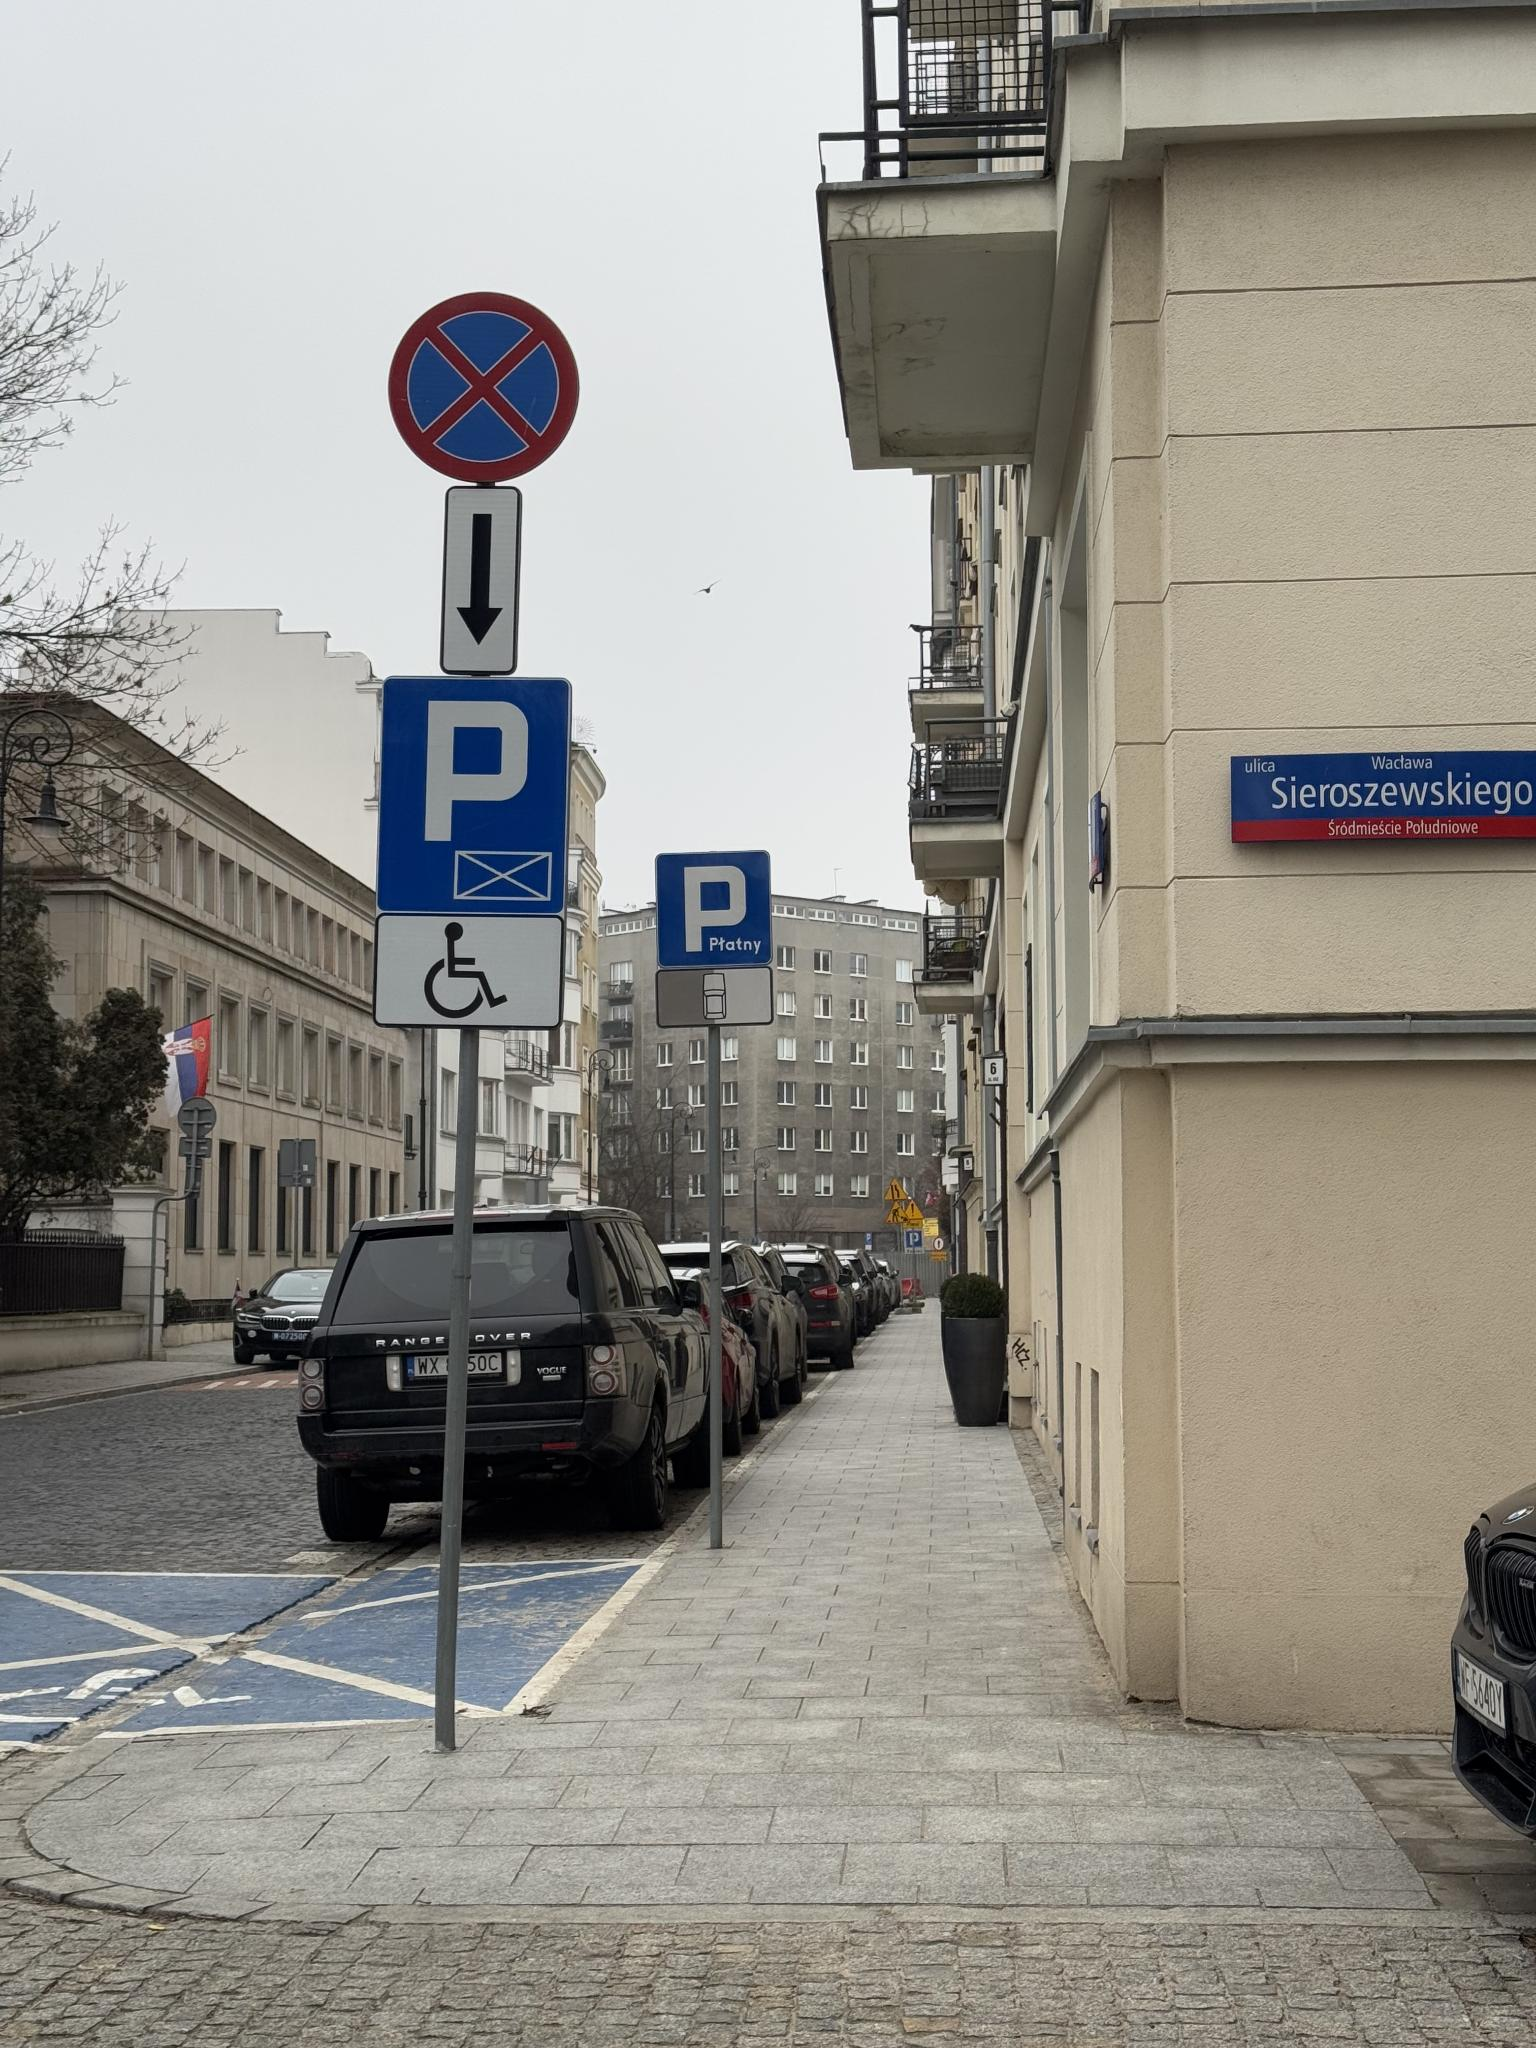information: (373, 676, 574, 914), (655, 848, 773, 968), (905, 1230, 923, 1247)
other: (368, 913, 563, 1030), (442, 485, 524, 674), (655, 966, 776, 1027)
prohibitory: (387, 287, 581, 484), (934, 1237, 944, 1251)
warning: (884, 1201, 910, 1224), (884, 1177, 908, 1200), (904, 1200, 925, 1219)
